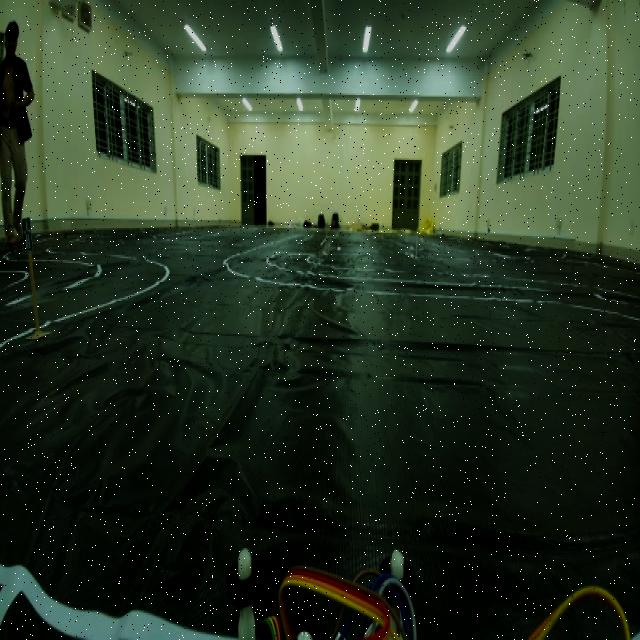highway_entry: (19, 206, 37, 252)
